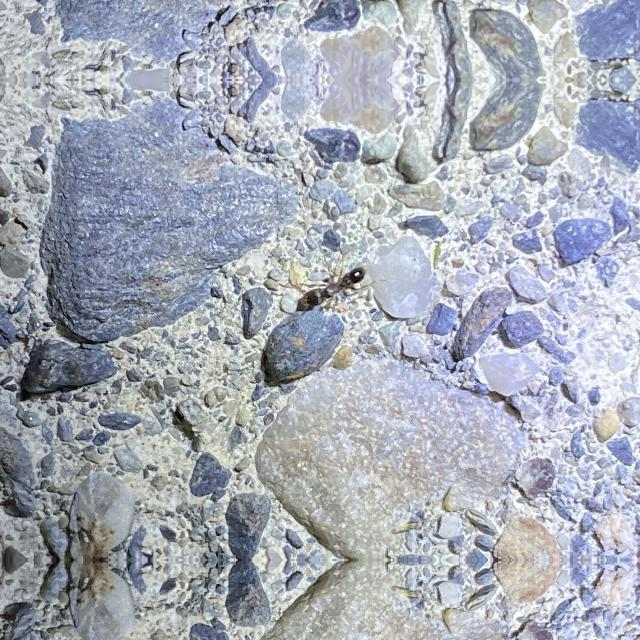Tetramorium: (292, 256, 372, 318)
